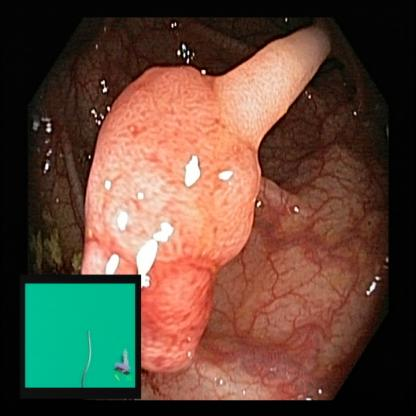Labels: (20, 270, 140, 397)
Polyps: (108, 88, 253, 260), (138, 260, 212, 378)
